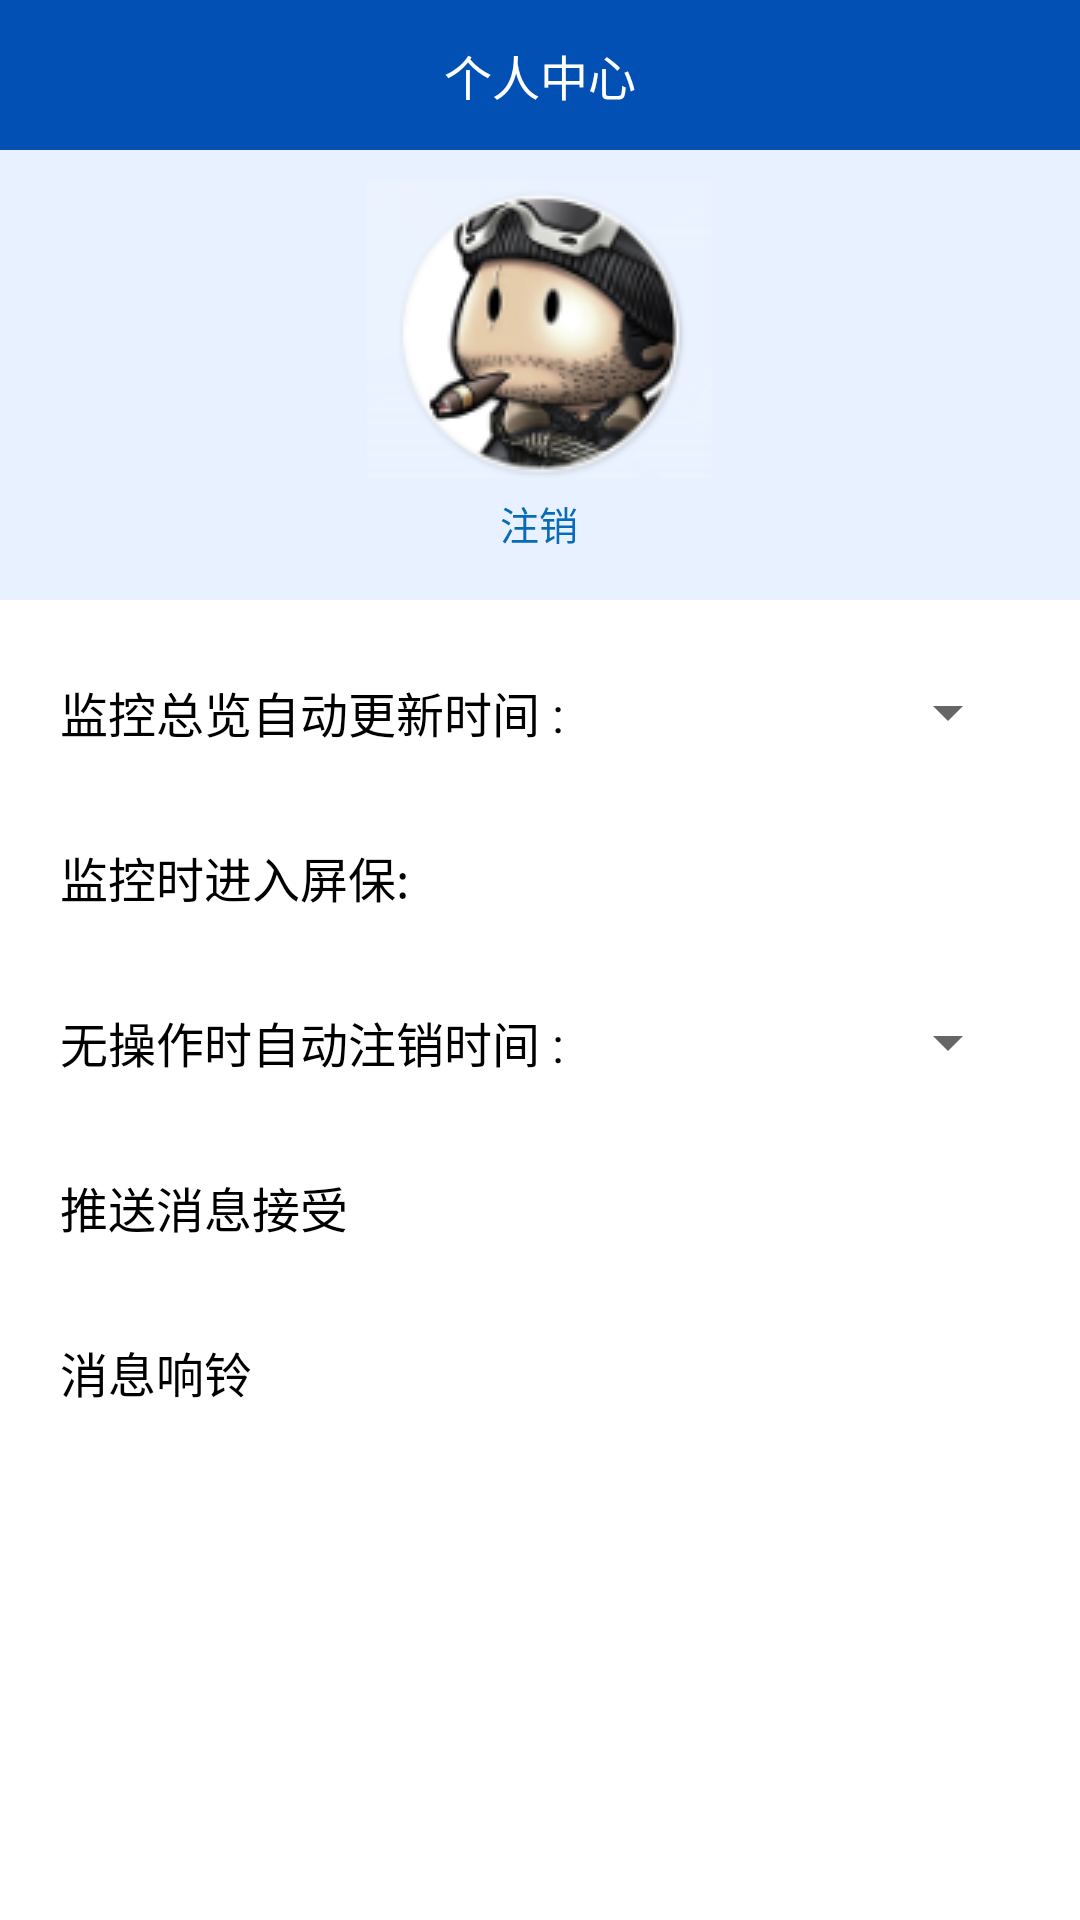

Icon bounding boxes for this 1080*1920 phone screenshot, format bbox=(x1, y1, x2, y2):
demo user: bbox=(429, 198, 681, 470)
